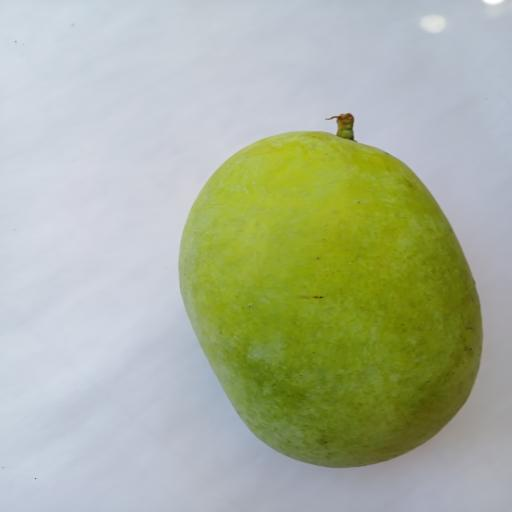mango-unripe: (160, 90, 501, 477)
